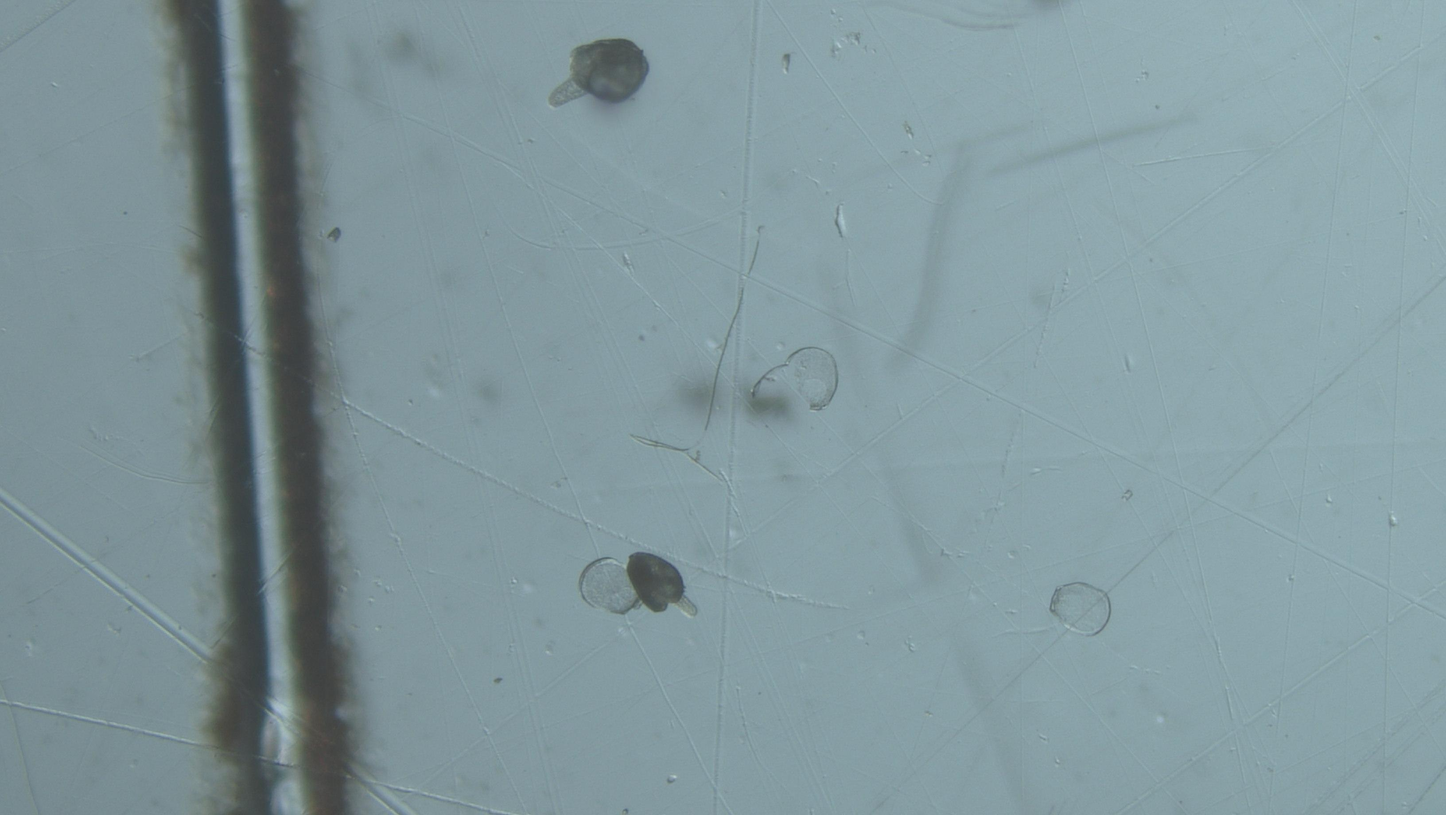dead: (750, 347, 839, 411), (578, 558, 641, 615), (1050, 582, 1111, 636)
live: (548, 39, 649, 108), (627, 552, 684, 613)
